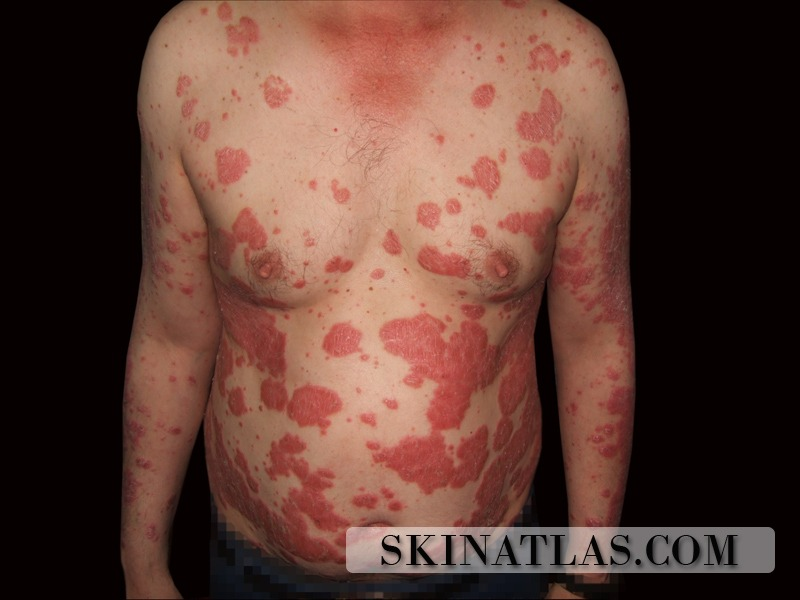Psoriasis: (199, 405, 334, 569), (571, 132, 636, 345), (383, 305, 500, 422), (370, 417, 493, 495), (495, 299, 546, 484), (212, 285, 285, 382), (514, 79, 570, 152), (498, 199, 562, 262), (291, 378, 345, 438), (408, 240, 472, 281), (321, 307, 365, 365), (519, 42, 575, 83), (223, 204, 268, 255), (219, 12, 266, 59), (456, 155, 505, 192), (213, 147, 256, 188), (515, 142, 556, 181), (462, 83, 508, 117), (409, 195, 446, 230), (262, 73, 297, 108), (176, 87, 209, 124), (598, 387, 637, 416), (346, 490, 386, 518), (378, 226, 404, 258), (329, 172, 349, 212), (187, 118, 217, 144), (326, 255, 359, 278)
